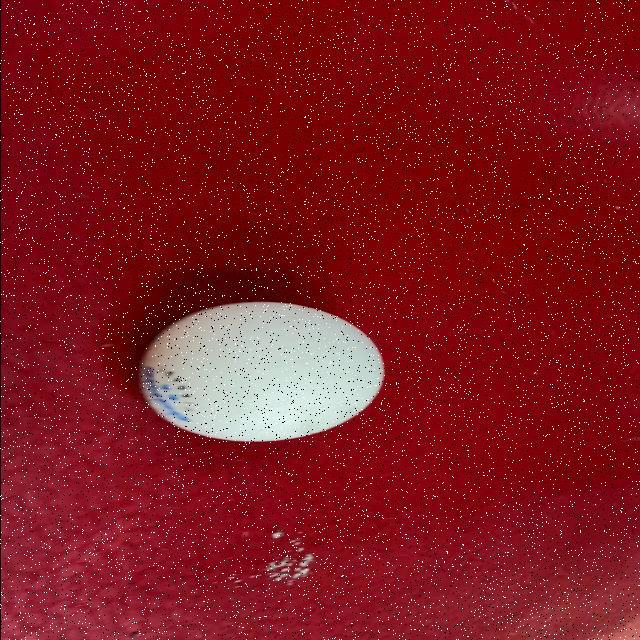ping-pong-ball: (134, 300, 390, 446)
